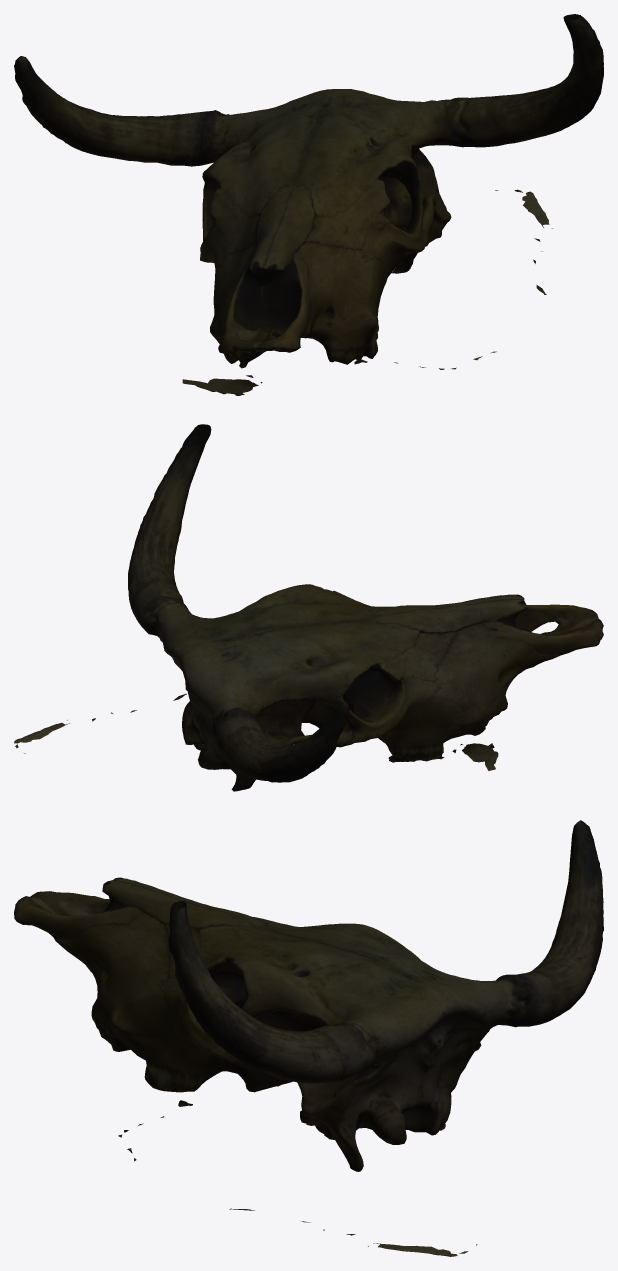
The model's file is model_objKrasTamb.glb.
3 views of the same model, one above another, from view 1: azimuth 30°, elevation 25°; view 2: azimuth 150°, elevation 25°; view 3: azimuth 270°, elevation 25° (orthographic). The views are drawn at different scales.
Visible parts, largest first — view 1: Node1; view 2: Node1; view 3: Node1.
Boxes of the visible parts, x1,y1,x2,y2 form: Node1: (14,14,603,395); Node1: (14,424,603,791); Node1: (14,820,603,1256).
Bounding box in the file's own units: 0.5211 × 0.294 × 0.514.
1 material, 1 textured.
